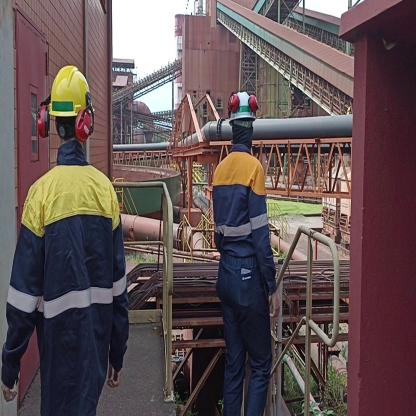Balaclava: (231, 119, 254, 150)
C_eletrica: (9, 169, 129, 392)
Capacete: (42, 58, 93, 119), (229, 90, 257, 121)
Operacional: (212, 152, 278, 294)
